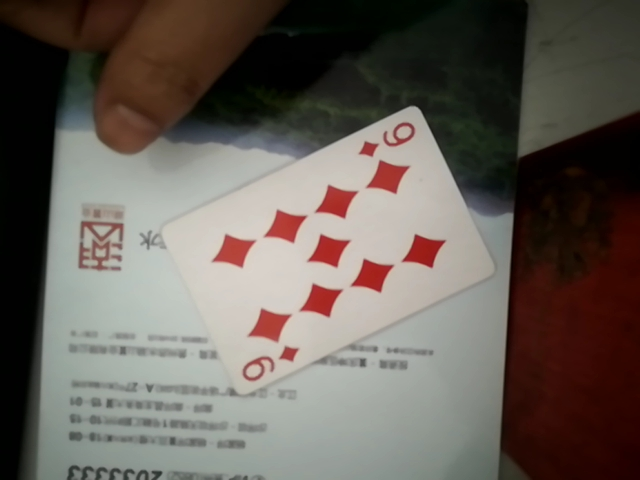fk 9: (164, 100, 489, 395)
